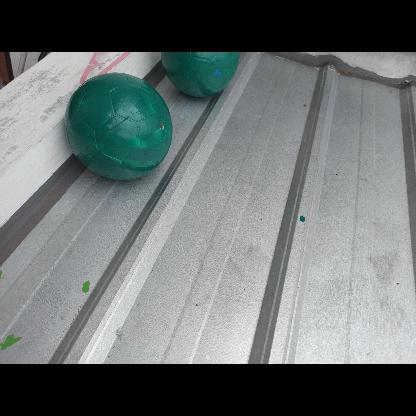green_ball: (63, 71, 175, 183)
